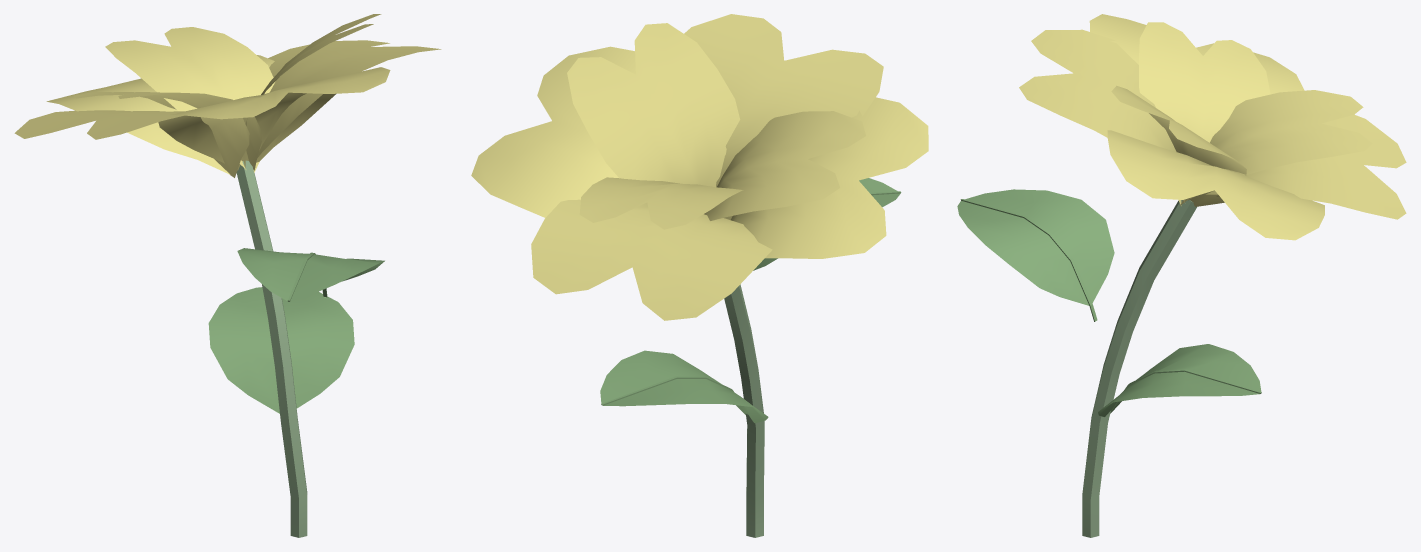
Rendered from Flower3.fbx.
3 views of the same model, side by side, from view 1: azimuth 30°, elevation 25°; view 2: azimuth 150°, elevation 25°; view 3: azimuth 270°, elevation 25° (orthographic). The views are drawn at different scales.
Visible parts, largest first — view 1: pPlane35, pPlane33, pPlane30, pCylinder25, pPlane29, pPlane31, pPlane36, pPlane28, pPlane32, pPlane34; view 2: pPlane34, pPlane28, pPlane30, pPlane31, pPlane29, pPlane32, pPlane35, pPlane33, pCylinder25, pPlane36; view 3: pPlane36, pPlane32, pPlane29, pPlane30, pPlane33, pPlane28, pCylinder25, pPlane35, pPlane31, pPlane34.
Part boxes in pixels (box(x1,y1,x2,y2)): pPlane35: box(208, 287, 354, 413); pPlane33: box(105, 27, 275, 172); pPlane30: box(158, 67, 390, 170); pCylinder25: box(236, 160, 307, 537); pPlane29: box(257, 40, 441, 158); pPlane31: box(14, 110, 249, 177); pPlane36: box(237, 248, 384, 301); pPlane28: box(46, 55, 274, 174); pPlane32: box(74, 91, 261, 170); pPlane34: box(243, 14, 381, 168); pPlane34: box(567, 23, 740, 187); pPlane28: box(531, 199, 772, 320); pPlane30: box(684, 14, 883, 219); pPlane31: box(731, 97, 928, 258); pPlane29: box(471, 46, 635, 217); pPlane32: box(704, 111, 865, 220); pPlane35: box(600, 350, 768, 423); pPlane33: box(579, 177, 743, 229); pCylinder25: box(724, 284, 764, 537); pPlane36: box(753, 178, 901, 270); pPlane36: box(957, 189, 1114, 321); pPlane32: box(1139, 22, 1270, 205); pPlane29: box(1107, 130, 1324, 240); pPlane30: box(1019, 29, 1185, 203); pPlane33: box(1180, 90, 1372, 205); pPlane28: box(1206, 114, 1406, 219); pCylinder25: box(1082, 200, 1196, 537); pPlane35: box(1098, 344, 1261, 416); pPlane31: box(1089, 14, 1304, 94); pPlane34: box(1111, 85, 1246, 196).
Bounding box in the file's own units: 0.7301 × 0.8847 × 0.753.
